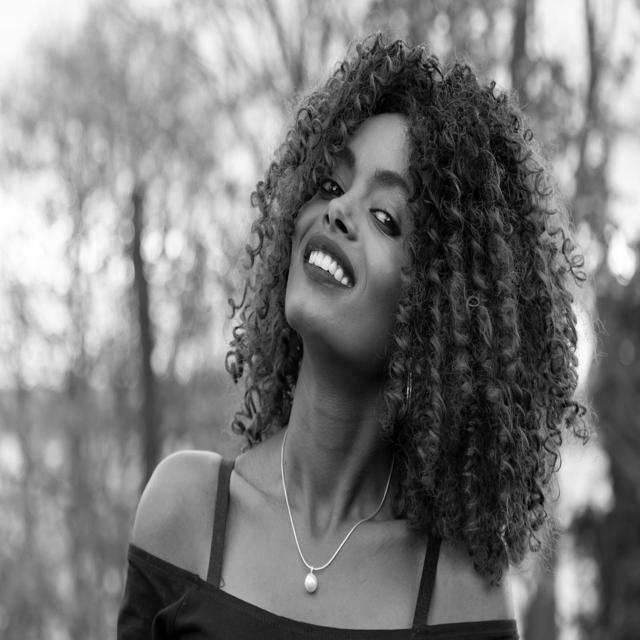Happiness: (282, 111, 424, 368)
